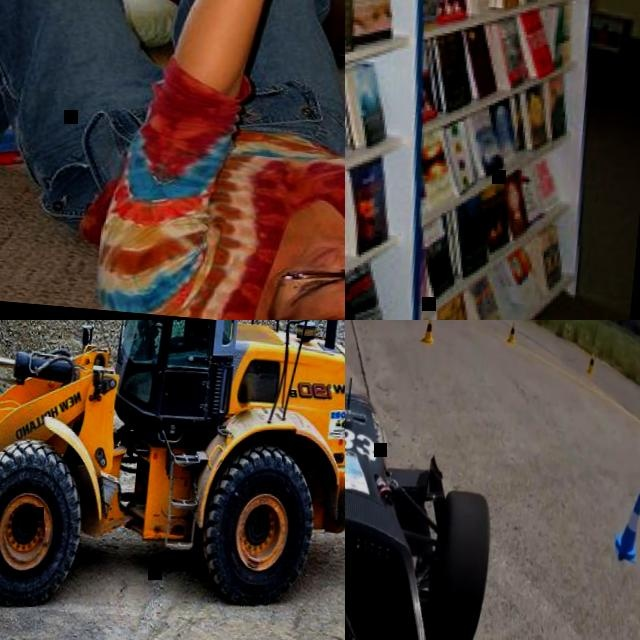NO-Hardhat: (268, 301, 345, 320)
NO-Mask: (297, 229, 345, 263)
NO-Safety Vest: (212, 122, 345, 265)
Person: (0, 0, 345, 320)
Safety Cone: (614, 485, 640, 571), (420, 320, 435, 351), (506, 321, 519, 350), (585, 350, 597, 378)
machinery: (0, 320, 345, 640)
vehicle: (345, 359, 537, 640)
